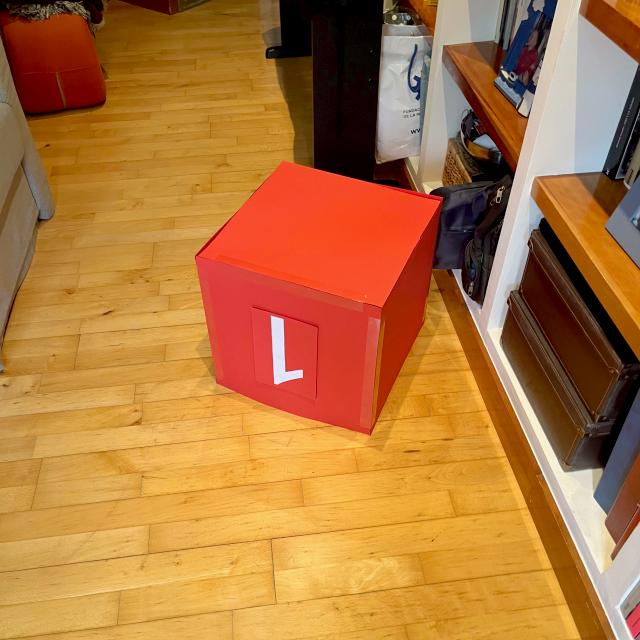box: (192, 157, 444, 437)
